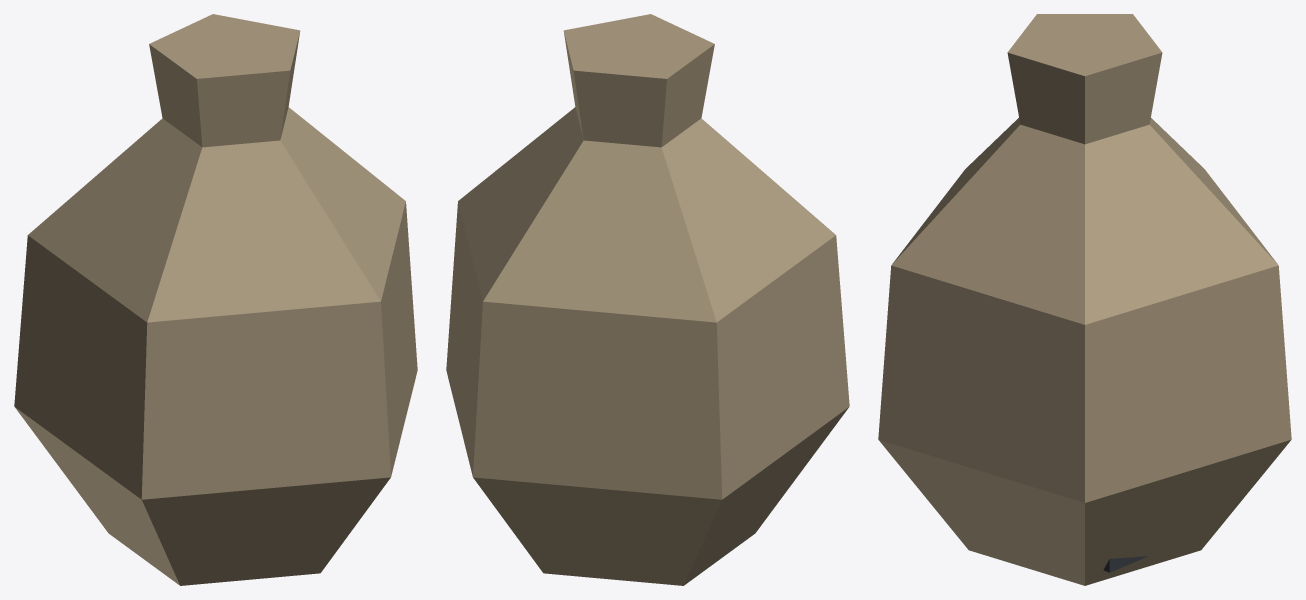
The model's file is SM_Prop_Grapeshot_LQ.glb.
3 views of the same model, side by side, from view 1: azimuth 30°, elevation 25°; view 2: azimuth 150°, elevation 25°; view 3: azimuth 270°, elevation 25° (orthographic).
Visible parts, largest first — view 1: SM_Prop_Grapeshot_LQ; view 2: SM_Prop_Grapeshot_LQ; view 3: SM_Prop_Grapeshot_LQ.
Part boxes in pixels (box(x1,y1,x2,y2)): SM_Prop_Grapeshot_LQ: box(14, 14, 417, 585); SM_Prop_Grapeshot_LQ: box(446, 14, 849, 585); SM_Prop_Grapeshot_LQ: box(878, 14, 1291, 585).
Size of the model in its own units: 0.2894 by 0.4 by 0.3043.
1 material, 1 textured.
